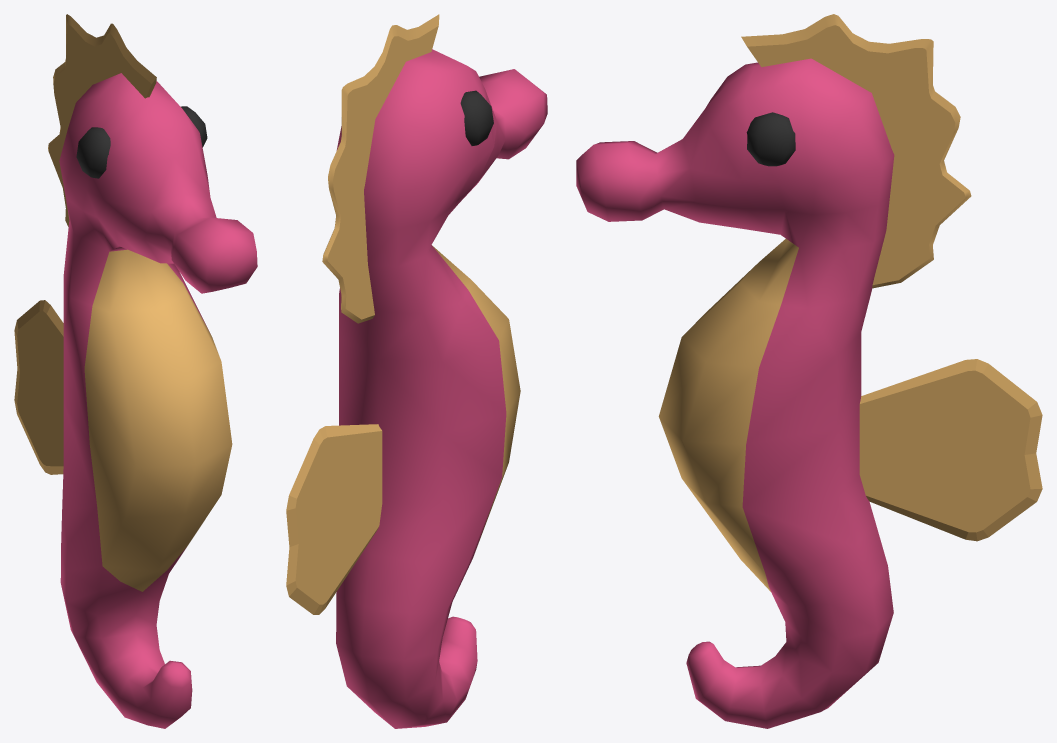
Rendered from SeaHorse_01.fbx.
3 views of the same model, side by side, from view 1: azimuth 30°, elevation 25°; view 2: azimuth 150°, elevation 25°; view 3: azimuth 270°, elevation 25° (orthographic). The views are drawn at different scales.
Parts seen in each view (by area): view 1: SeaHorse_01; view 2: SeaHorse_01; view 3: SeaHorse_01.
Part boxes in pixels (x1,y1,x2,y2): SeaHorse_01: (14,14,257,728); SeaHorse_01: (286,14,547,728); SeaHorse_01: (576,14,1042,728).
Size of the model in its own units: 0.0824 by 0.4105 by 0.2431.
